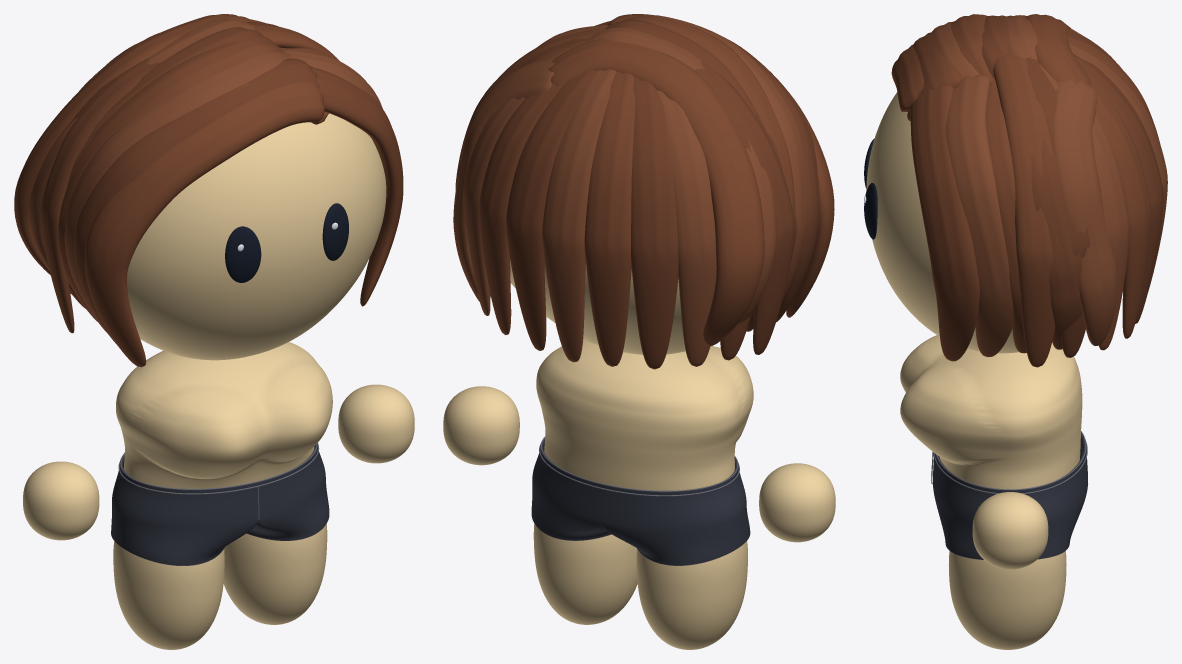
The model's file is Feminine-base.glb.
The picture shows the model from 3 angles, left to right: view 1: azimuth 30°, elevation 25°; view 2: azimuth 150°, elevation 25°; view 3: azimuth 270°, elevation 25°; orthographic projection.
Visible parts, largest first — view 1: Skin / soft oval head, Skin / rounded torso, Hair / Bob / side sweep 0, Clothing / fixed shorts, Skin / leg blob -1, Skin / leg blob 1, Hair / Bob / side sweep 1, Hair / Bob / side sweep 2, Hair / Bob / side sweep 7, Hair / Bob / side sweep 3, Hair / Bob / side sweep 22, Hair / Bob / side sweep 6 (+8 smaller); view 2: Skin / rounded torso, Hair / Bob / side sweep 6, Clothing / fixed shorts, Hair / Bob / side sweep 19, Hair / Bob / side sweep 18, Hair / Bob / side sweep 17, Hair / Bob / side sweep 16, Hair / Bob / side sweep 20, Skin / leg blob -1, Skin / leg blob 1, Hair / Bob / side sweep 15, Hair / Bob / side sweep 22 (+14 smaller); view 3: Skin / rounded torso, Hair / Bob / side sweep 7, Hair / Bob / side sweep 8, Hair / Bob / side sweep 12, Skin / soft oval head, Hair / Bob / side sweep 11, Skin / leg blob 1, Clothing / fixed shorts, Hair / Bob / side sweep 15, Hair / Bob / side sweep 10, Skin / orb hand 1, Hair / Bob / side sweep 9 (+13 smaller).
Part boxes in pixels (bbox=[...]): Skin / soft oval head: bbox=[127, 113, 386, 360]; Skin / rounded torso: bbox=[116, 342, 332, 488]; Hair / Bob / side sweep 0: bbox=[84, 82, 328, 367]; Clothing / fixed shorts: bbox=[111, 444, 329, 565]; Skin / leg blob -1: bbox=[113, 541, 224, 649]; Skin / leg blob 1: bbox=[223, 524, 327, 624]; Hair / Bob / side sweep 1: bbox=[74, 58, 319, 345]; Hair / Bob / side sweep 2: bbox=[64, 51, 291, 332]; Hair / Bob / side sweep 7: bbox=[311, 67, 403, 306]; Hair / Bob / side sweep 3: bbox=[58, 39, 282, 321]; Hair / Bob / side sweep 22: bbox=[40, 58, 160, 333]; Hair / Bob / side sweep 6: bbox=[14, 14, 254, 275]; Skin / rounded torso: bbox=[536, 339, 753, 490]; Hair / Bob / side sweep 6: bbox=[548, 39, 764, 346]; Clothing / fixed shorts: bbox=[531, 439, 750, 565]; Hair / Bob / side sweep 19: bbox=[631, 77, 678, 369]; Hair / Bob / side sweep 18: bbox=[584, 71, 635, 366]; Hair / Bob / side sweep 17: bbox=[542, 69, 615, 362]; Hair / Bob / side sweep 16: bbox=[506, 70, 596, 350]; Hair / Bob / side sweep 20: bbox=[657, 90, 716, 366]; Skin / leg blob -1: bbox=[636, 541, 747, 649]; Skin / leg blob 1: bbox=[533, 524, 637, 624]; Hair / Bob / side sweep 15: bbox=[479, 82, 566, 335]; Hair / Bob / side sweep 22: bbox=[694, 61, 794, 354]; Skin / rounded torso: bbox=[900, 335, 1082, 489]; Hair / Bob / side sweep 7: bbox=[910, 85, 979, 361]; Hair / Bob / side sweep 8: bbox=[945, 74, 1013, 357]; Hair / Bob / side sweep 12: bbox=[993, 53, 1057, 367]; Skin / soft oval head: bbox=[866, 92, 1052, 353]; Hair / Bob / side sweep 11: bbox=[1053, 79, 1116, 345]; Skin / leg blob 1: bbox=[949, 551, 1066, 649]; Clothing / fixed shorts: bbox=[932, 433, 1087, 559]; Hair / Bob / side sweep 15: bbox=[1087, 75, 1150, 338]; Hair / Bob / side sweep 10: bbox=[1031, 137, 1082, 349]; Skin / orb hand 1: bbox=[972, 492, 1048, 569]; Hair / Bob / side sweep 9: bbox=[986, 78, 1026, 353].
Size of the model in its own units: 1.23 by 1.86 by 0.8643.
